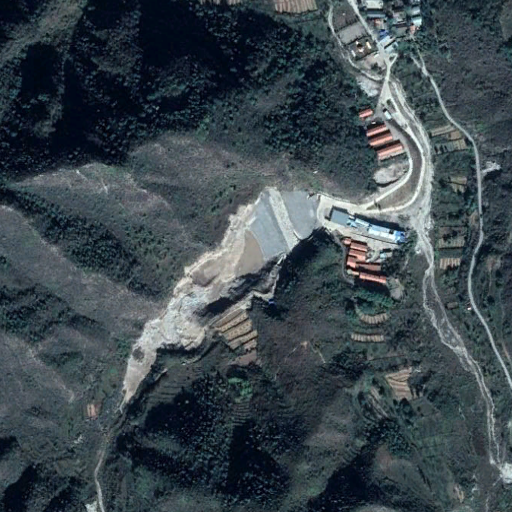tp: (120, 189, 314, 402)
